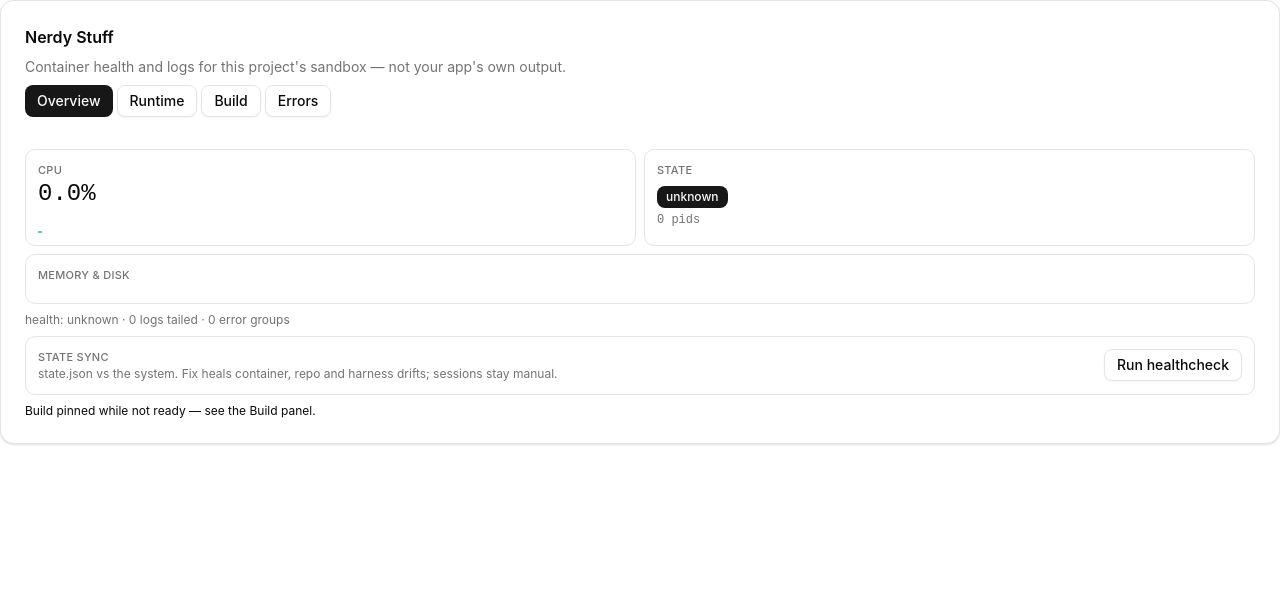
NerdyStuffTab › overview shows cpu, meters, and io
Click the tab with test id "nerdy-panel-overview": (69, 101) [25,85,112,117]
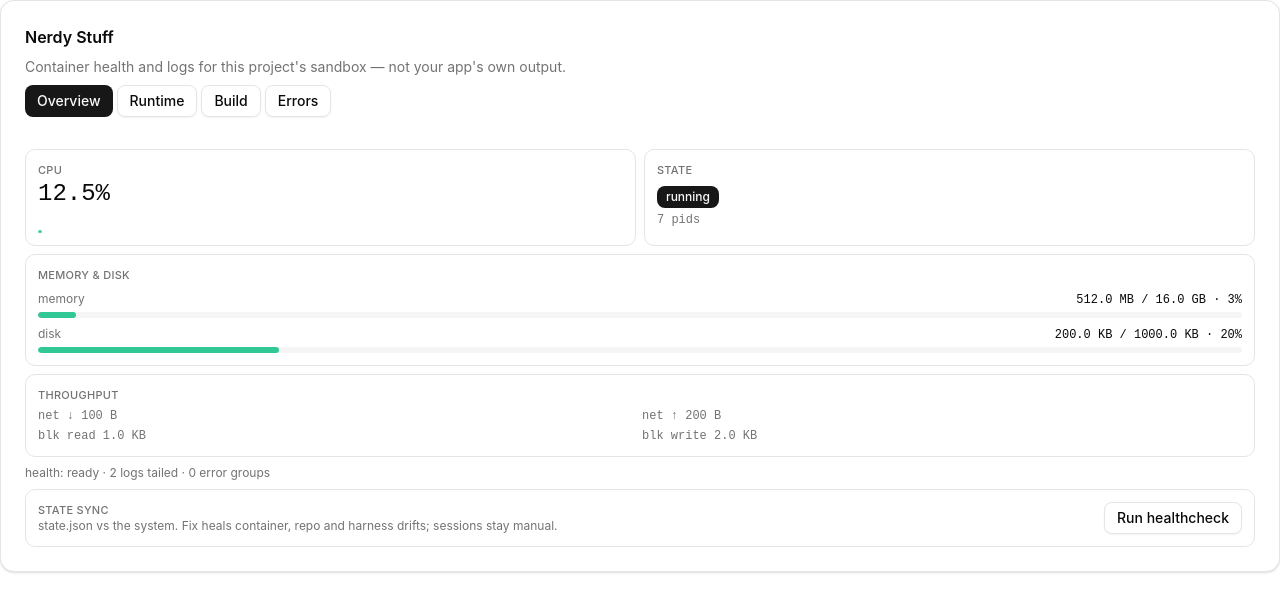
Result: the text with test id "nerdy-cpu" reads "12.5%" at [38,180,110,206]
Result: the element with test id "nerdy-mem" shows "512.0 MB / 16.0 GB" at [38,291,1242,318]
Result: the element with test id "nerdy-disk" shows "200.0 KB / 1000.0 KB" at [38,326,1242,353]
